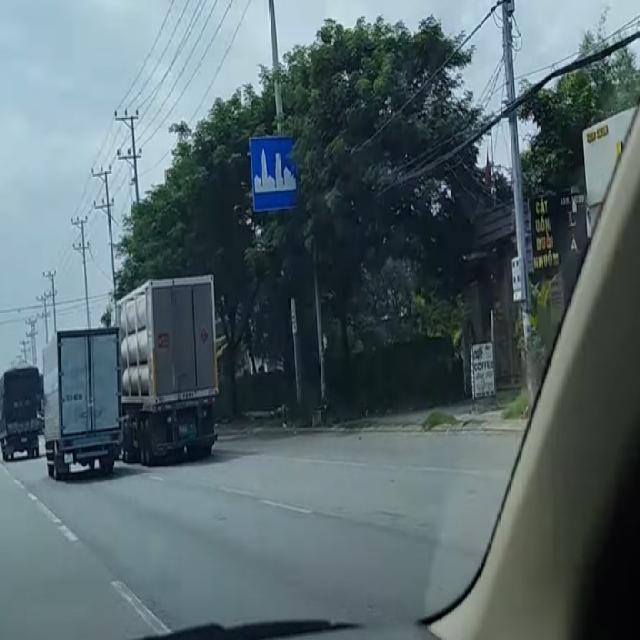Bien hieu lenh bat dau khu dong dan cu: (247, 132, 303, 216)
